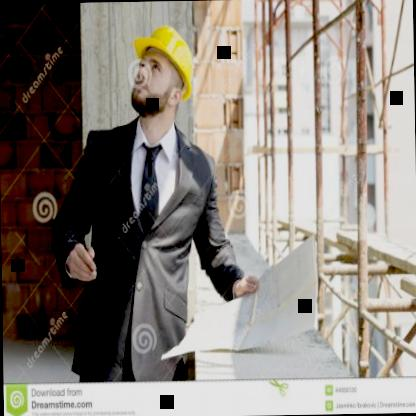helmet: (124, 7, 200, 136)
